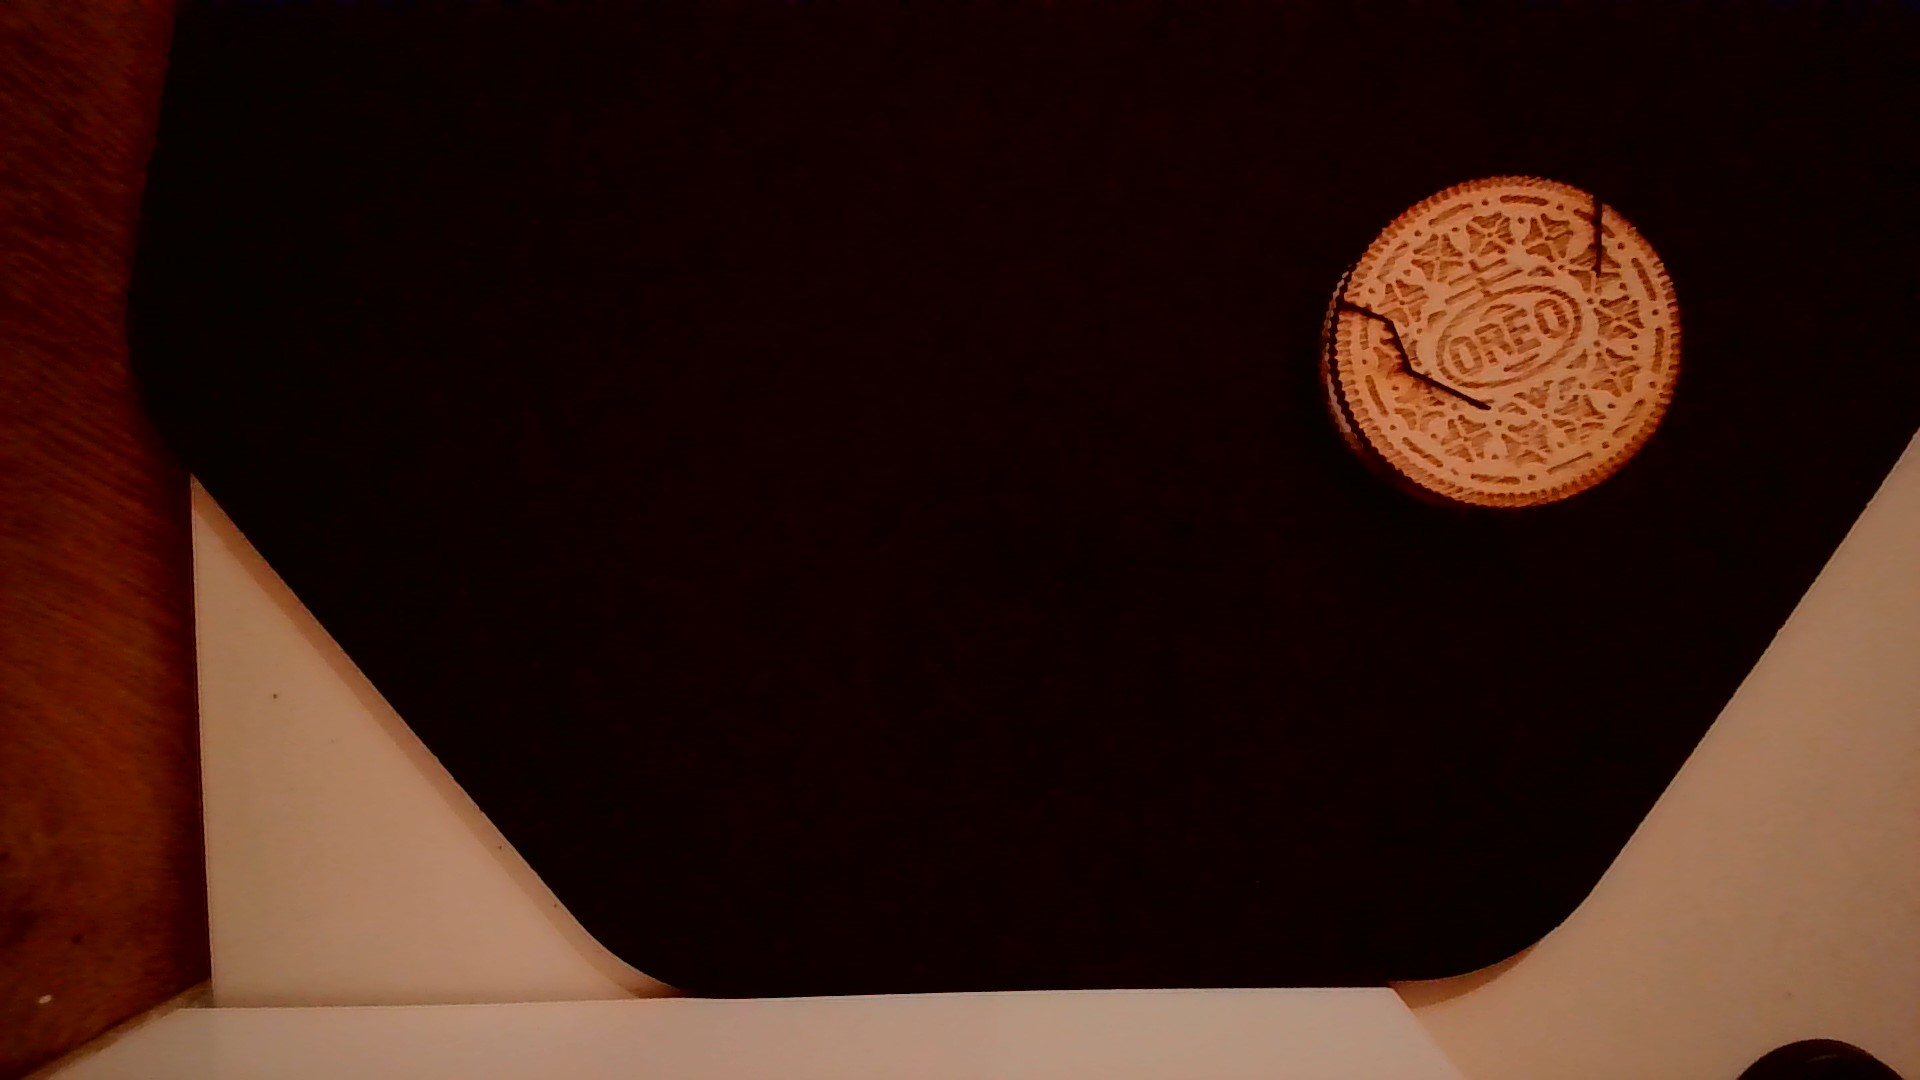Fissure: (1320, 290, 1501, 415), (1582, 185, 1621, 276)
Oréo: (1313, 171, 1687, 518)
